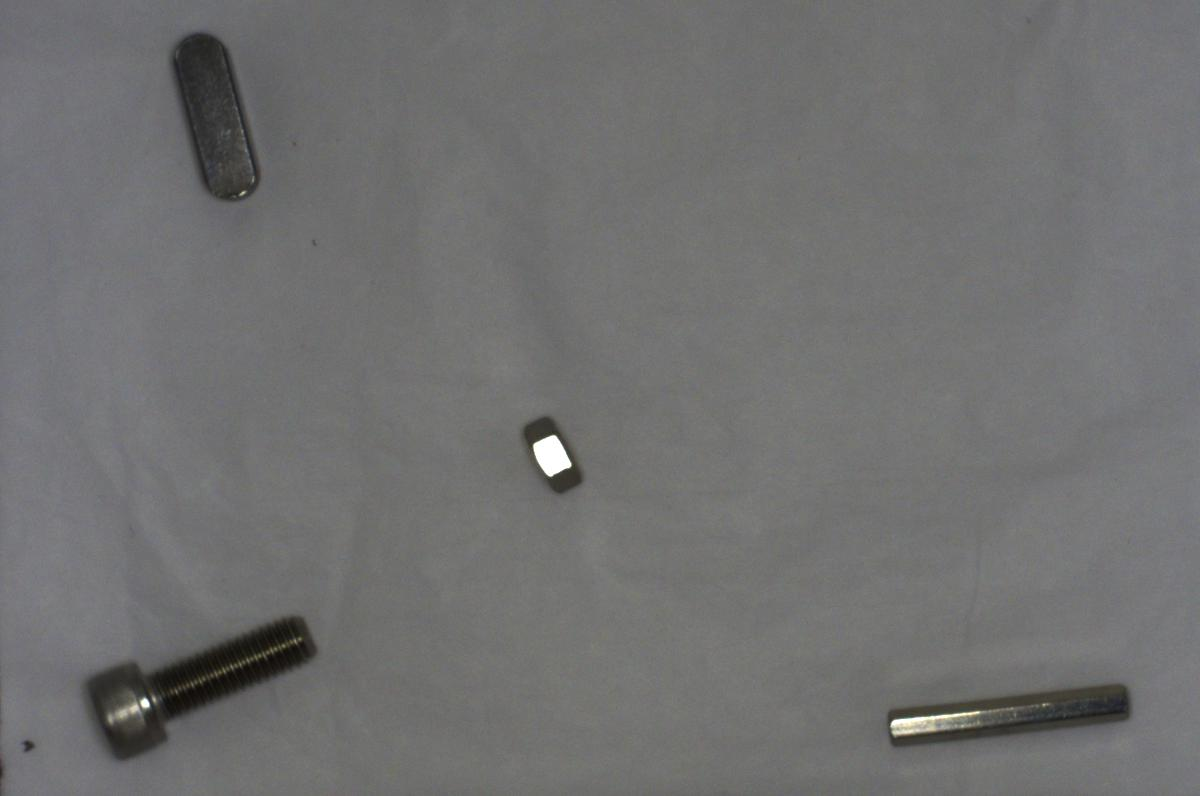Double hexagonal column: (868, 670, 1142, 753)
Hexagon nut: (508, 410, 597, 499)
Hexagon screw: (78, 607, 322, 762)
Keybar: (162, 20, 264, 208)
